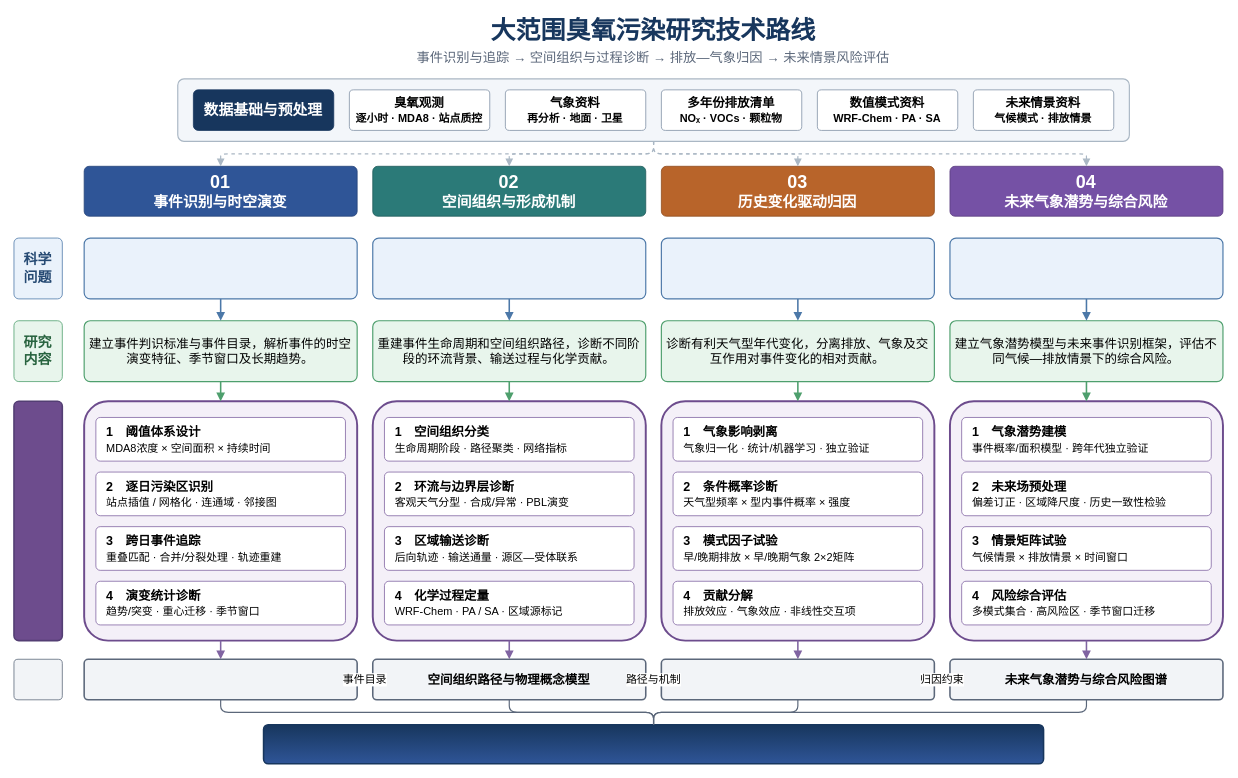
The diagram is 1238 pixels wide and 778 high, and some of its shapes have lost their labels. The shapes that lost their labels are listed below. From the top down, each one's box as (x1, y1, x2, y2) in pixels, then its label:
(83, 237, 357, 299): 如何客观识别大范围污染事件，并刻画其频率、持续时间、强度和影响范围的长期变化？
(372, 237, 646, 299): 区域臭氧高值如何同步生成、扩展、合并和连接，气象—化学过程在各阶段如何作用？
(660, 237, 935, 299): 排放变化、气象变化及其交互作用如何改变大范围臭氧事件风险，各自贡献有多大？
(949, 237, 1223, 299): 未来情景下气象潜势、季节窗口和高风险区如何变化，主导形成路径是否发生转变？
(13, 400, 63, 641): 技术 方法
(13, 658, 62, 700): 阶段 产出
(83, 658, 358, 700): 事件目录与时空演变图谱
(660, 658, 935, 700): 排放—气象贡献分解与历史归因
(262, 724, 1044, 764): 形成“事件识别—过程机制—历史归因—未来风险”一体化研究框架，支撑大范围臭氧污染预警与区域协同治理
